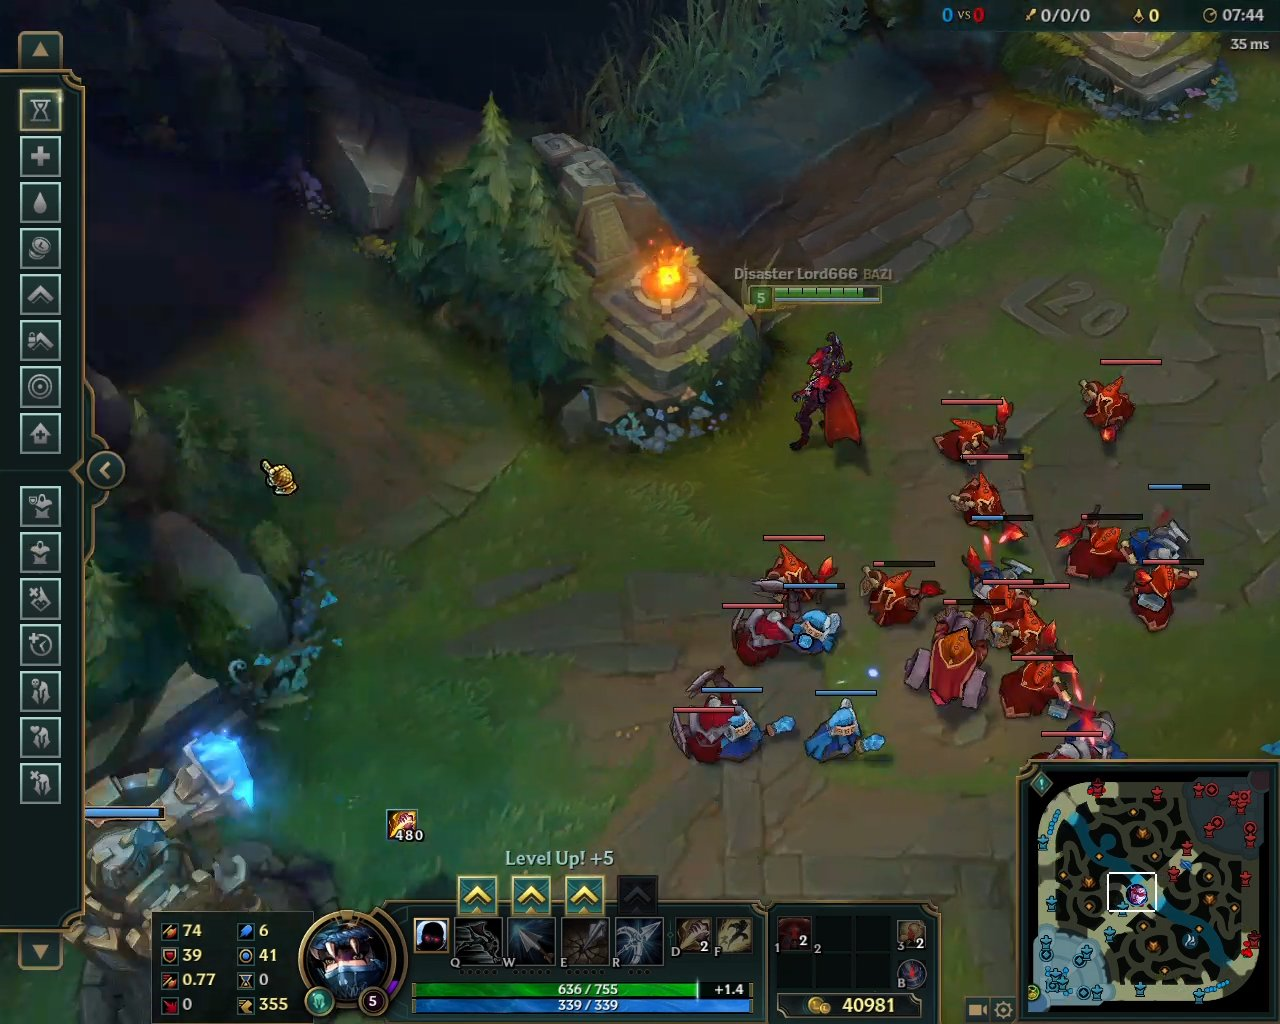EnemyMinion: (906, 596, 1007, 708), (718, 578, 799, 675), (950, 450, 1032, 545), (924, 394, 1021, 474), (1112, 556, 1206, 634), (992, 653, 1087, 730), (851, 556, 947, 629), (1077, 356, 1158, 443), (1058, 505, 1146, 581), (996, 580, 1073, 661), (755, 534, 835, 610), (664, 707, 734, 768)
Vayne: (779, 330, 871, 466)
